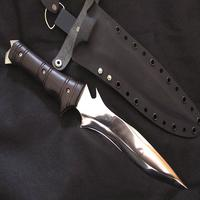knife: (5, 35, 192, 193)
